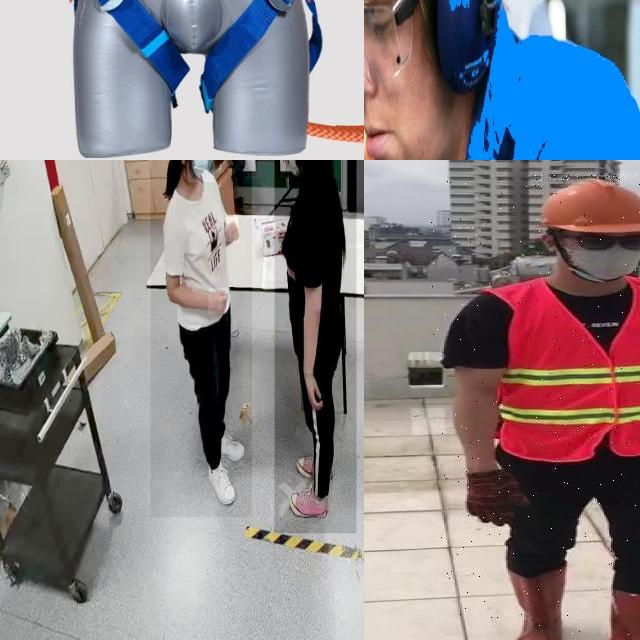Ear-protection: (448, 0, 512, 125)
Harness: (64, 0, 327, 102)
No_Ear-Protection: (532, 224, 566, 258)
boots: (504, 568, 572, 640)
face_mask: (187, 160, 214, 182), (285, 160, 309, 177)
hand_noglove: (301, 373, 324, 412), (208, 288, 228, 314), (225, 216, 239, 242)
head_helmet: (364, 0, 441, 87), (531, 174, 640, 234)
person: (431, 180, 640, 640), (150, 160, 252, 518), (274, 160, 357, 534)
shoes: (205, 457, 236, 508), (287, 486, 331, 518), (296, 452, 336, 484), (212, 431, 246, 460)
vest: (492, 281, 640, 461)
